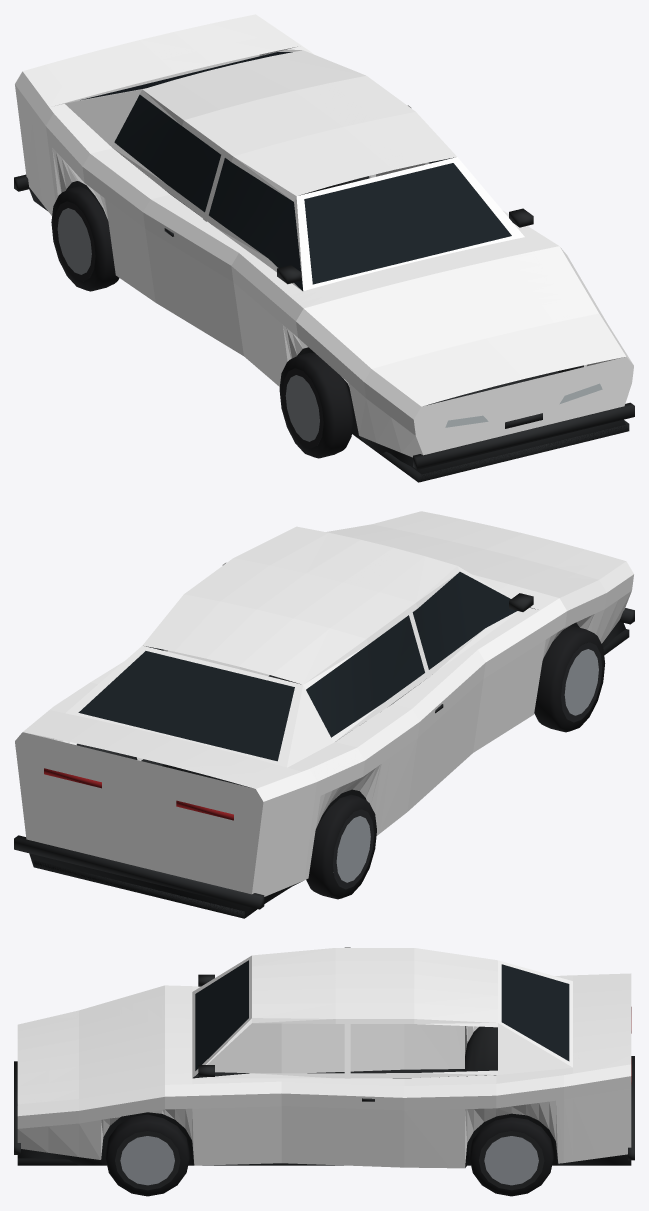
Rendered from taurenza_galeria.glb.
The picture shows the model from 3 angles, top to bottom: view 1: azimuth 30°, elevation 25°; view 2: azimuth 150°, elevation 25°; view 3: azimuth 270°, elevation 25°; orthographic projection. The views are drawn at different scales.
Parts seen in each view (by area): view 1: Body_Paint, Body_Details, Mount_FrontLeft_Wheel_Details, Mount_RearLeft_Wheel_Details; view 2: Body_Paint, Body_Details, Mount_FrontLeft_Wheel_Details, Mount_RearLeft_Wheel_Details; view 3: Body_Paint, Body_Details, Mount_FrontRight_Wheel_Details, Mount_RearRight_Wheel_Details.
Boxes of the visible parts, x1,y1,x2,y2 form: Body_Paint: (15,14,633,457); Body_Details: (14,52,634,482); Mount_FrontLeft_Wheel_Details: (279,352,353,458); Mount_RearLeft_Wheel_Details: (51,186,119,291); Body_Paint: (15,511,633,896); Body_Details: (14,572,634,918); Mount_FrontLeft_Wheel_Details: (534,625,605,732); Mount_RearLeft_Wheel_Details: (306,794,376,899); Body_Paint: (17,947,631,1168); Body_Details: (14,960,634,1167); Mount_FrontRight_Wheel_Details: (105,1114,189,1196); Mount_RearRight_Wheel_Details: (469,1117,553,1196).
Size of the model in its own units: 2.01 by 1.39 by 4.8.
2 materials, 1 textured.
